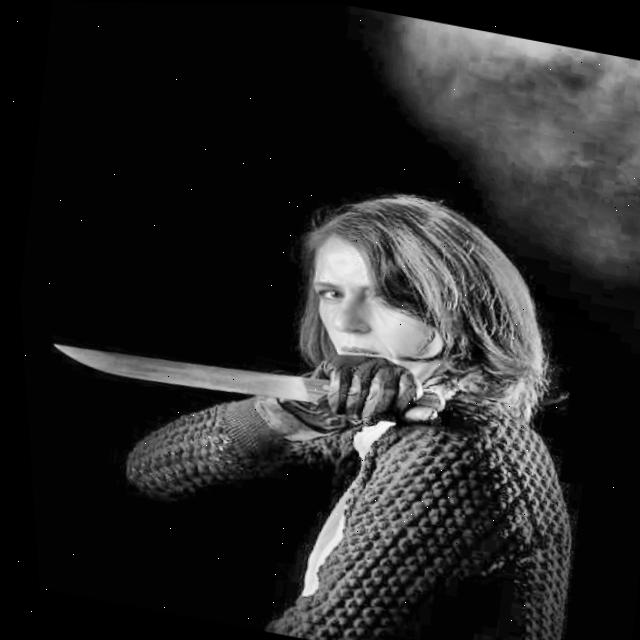pisau: (36, 296, 454, 453)
